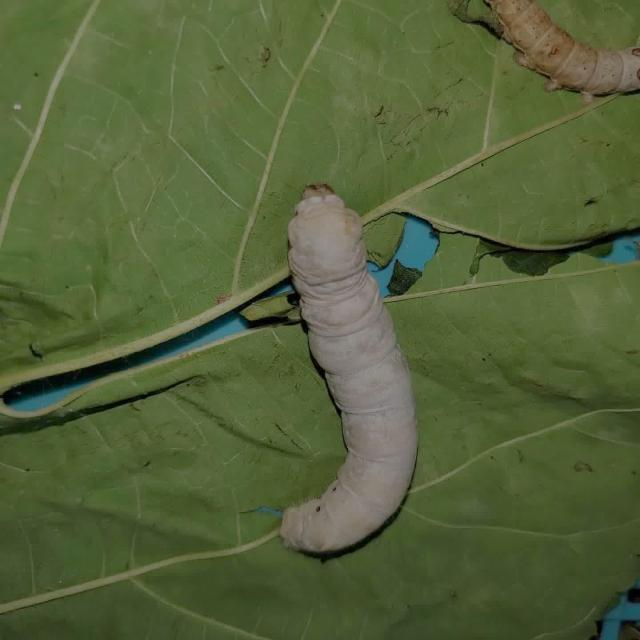Grasserie: (252, 171, 432, 568)
